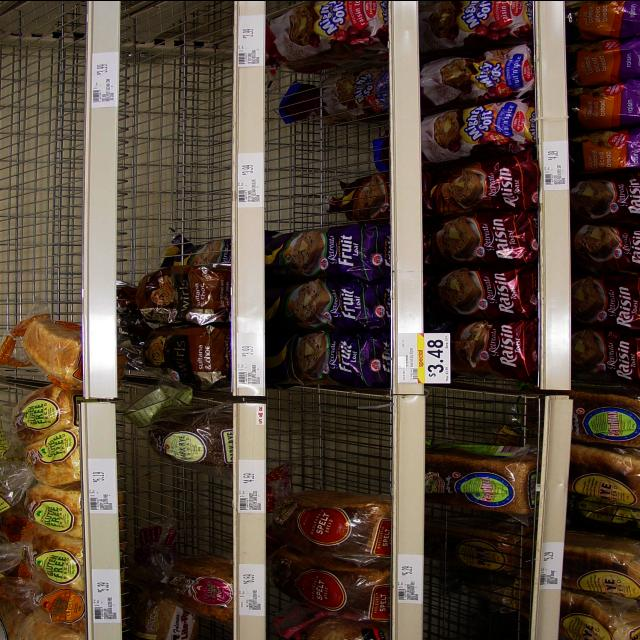empty_space: (139, 19, 219, 257), (20, 13, 76, 291), (287, 72, 379, 218), (436, 531, 511, 637), (288, 395, 372, 477), (447, 384, 527, 444), (136, 478, 220, 533)
